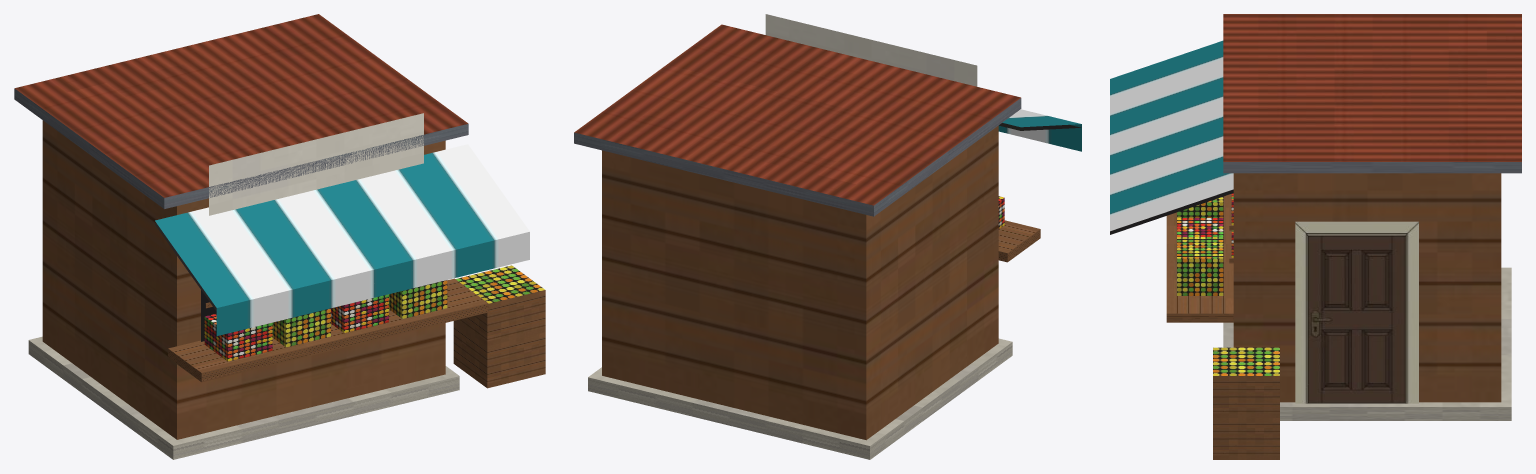
The model's file is kiosk-teal.glb.
3 views of the same model, side by side, from view 1: azimuth 30°, elevation 25°; view 2: azimuth 150°, elevation 25°; view 3: azimuth 270°, elevation 25° (orthographic).
Parts seen in each view (by area): view 1: kiosk-teal, sign_1; view 2: kiosk-teal, sign_1; view 3: kiosk-teal.
Boxes of the visible parts, x1,y1,x2,y2 form: kiosk-teal: (14,14,545,459); sign_1: (209,113,423,215); kiosk-teal: (574,24,1081,459); sign_1: (765,14,977,86); kiosk-teal: (1110,14,1521,459).
Bounding box in the file's own units: 4.25 × 3.05 × 4.
1 material, 1 textured.
